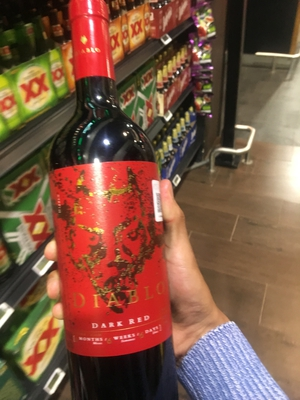diablo dark red: (41, 2, 184, 396)
